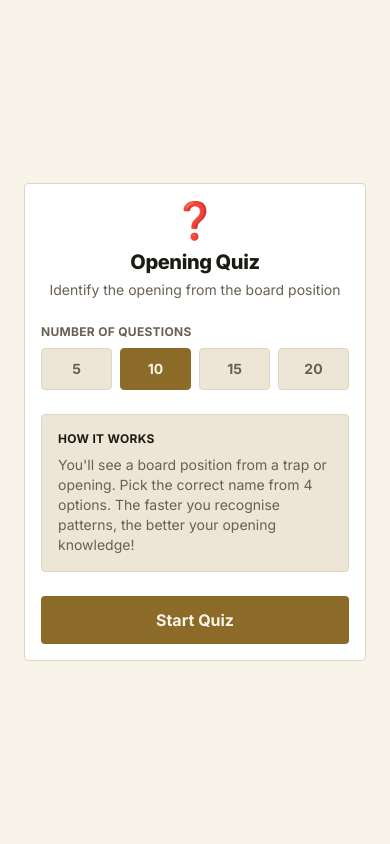
Scenario: OpeningQuizPage › picking an answer reveals correct/incorrect styling and enables Next
The width and height of the screenshot is (390, 844).
What coordinates should you click on to do the following:
click the button "Start Quiz"
I would click on:
 (195, 620)
Its box is x1=41 y1=596 x2=349 y2=644.
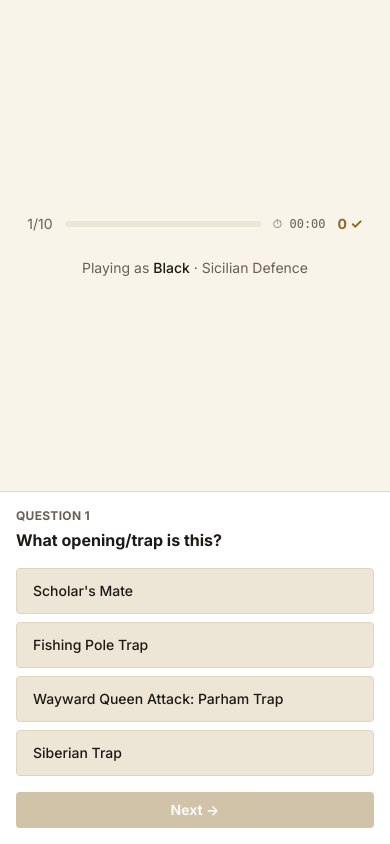
What coordinates should you click on to do the following:
click the button "Scholar's Mate"
I would click on:
 (83, 590)
Its box is x1=16 y1=568 x2=374 y2=614.
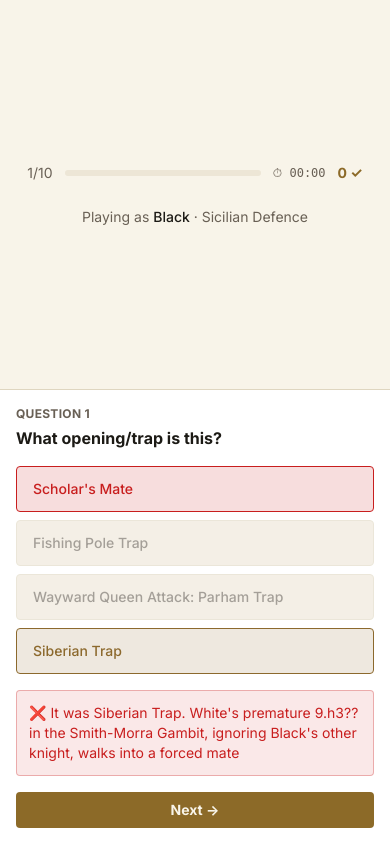
Check: the button "Next →" is enabled, box x1=16 y1=792 x2=374 y2=828
